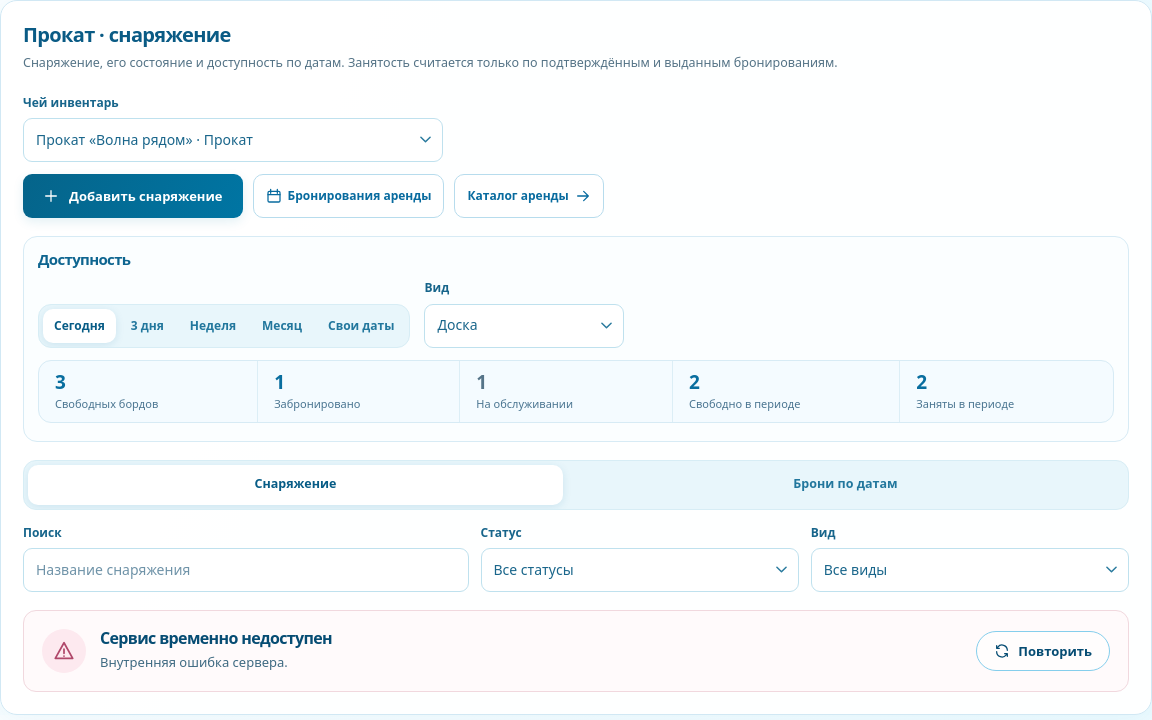
Test: RentalCabinet › shows an error with retry and recovers
What coordinates should you click on to do the following:
click the button "Повторить"
I would click on:
 (1043, 651)
Its box is [976,631,1110,671].
(page scrolled)
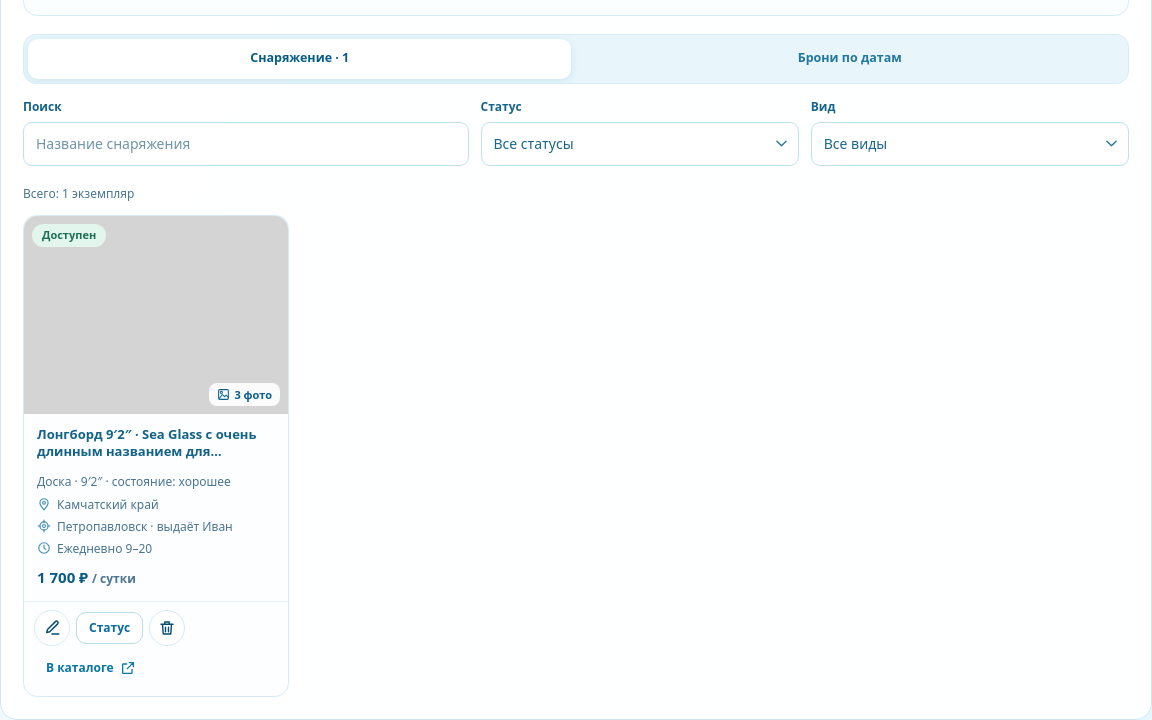
Expected: the heading named "Лонгборд 9′2″ · Sea Glass с очень длинным названием для проверки переноса строк в карточке" is shown, [37,426,275,460]
